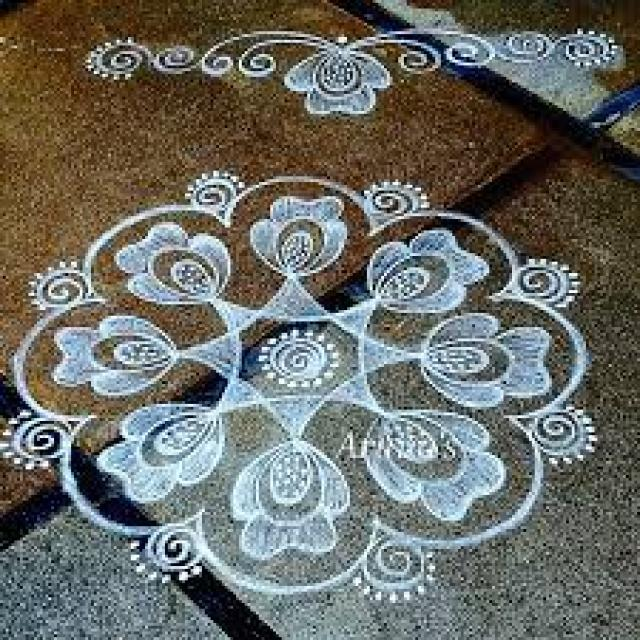rangoli: (1, 19, 640, 604)
